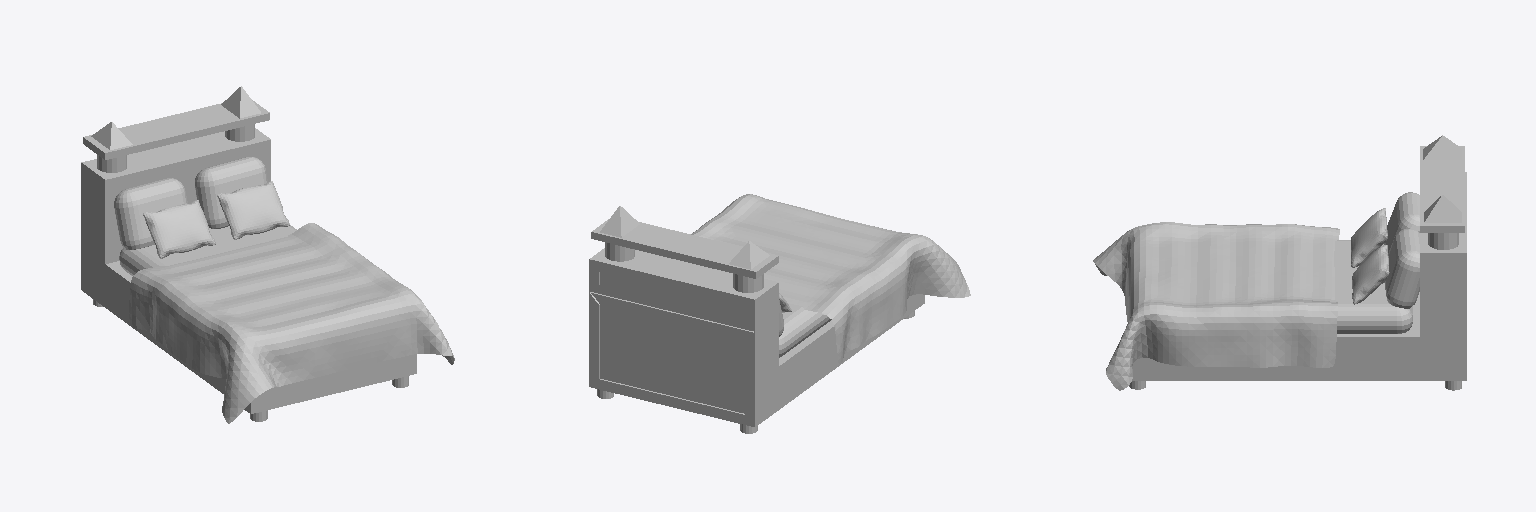
The model's file is Bed.obj.
3 views of the same model, side by side, from view 1: azimuth 30°, elevation 25°; view 2: azimuth 150°, elevation 25°; view 3: azimuth 270°, elevation 25° (orthographic).
Visible parts, largest first — view 1: Blanket, Bed, Pillow, Pillow_2, Pillow_3, Pillow_1, Matrass; view 2: Bed, Blanket, Matrass; view 3: Blanket, Bed, Matrass, Pillow_1, Pillow_2, Pillow_3, Pillow.
Boxes of the visible parts, box(x1,y1,x2,y2) form: Blanket: box(129, 223, 454, 423); Bed: box(81, 86, 416, 421); Pillow: box(114, 178, 187, 249); Pillow_2: box(217, 181, 289, 239); Pillow_3: box(143, 200, 215, 258); Pillow_1: box(195, 157, 267, 228); Matrass: box(119, 225, 296, 275); Bed: box(589, 206, 924, 433); Blanket: box(691, 194, 970, 363); Matrass: box(779, 303, 831, 357); Blanket: box(1093, 222, 1339, 390); Bed: box(1129, 135, 1466, 390); Matrass: box(1334, 240, 1412, 333); Pillow_1: box(1384, 229, 1419, 308); Pillow_2: box(1352, 245, 1389, 304); Pillow_3: box(1351, 208, 1387, 267); Pillow: box(1384, 192, 1419, 255).
Size of the model in its own units: 377 by 295 by 532.